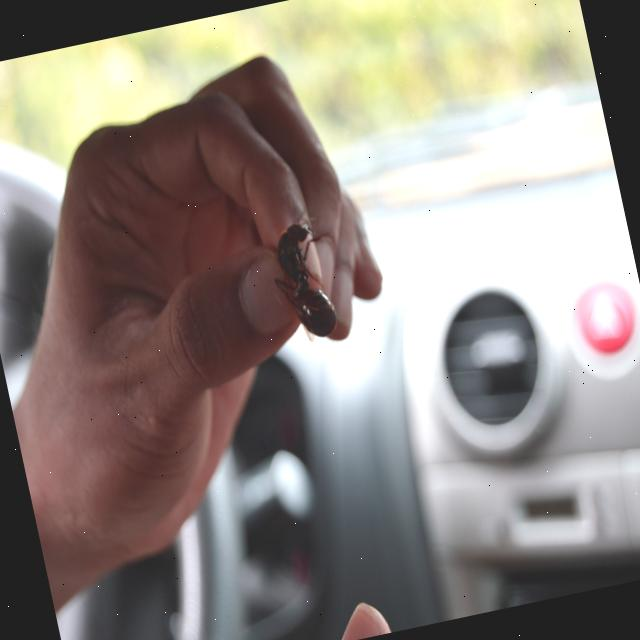Alive-Female-Alate: (259, 200, 355, 347)
